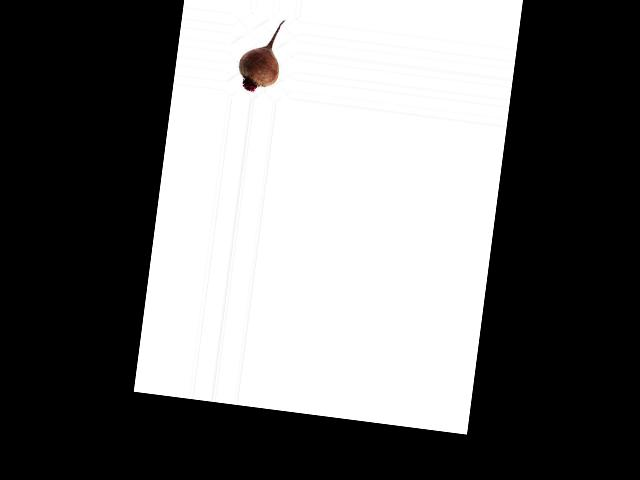beet: (234, 15, 285, 94)
